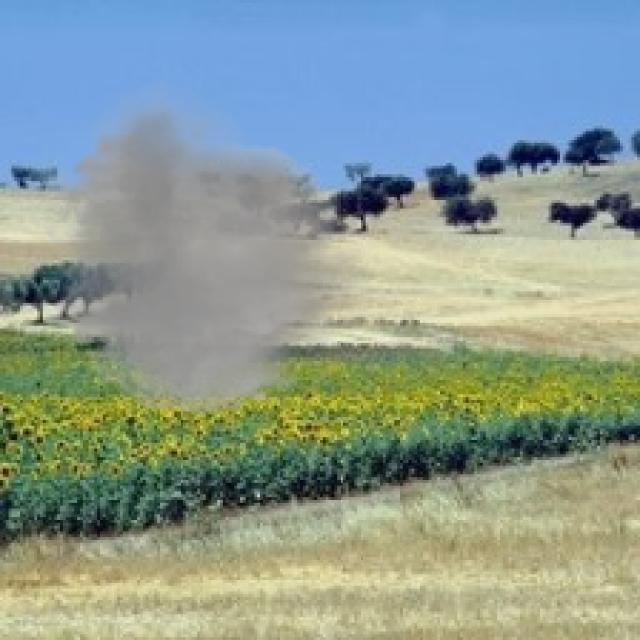smoke: (26, 77, 386, 423)
